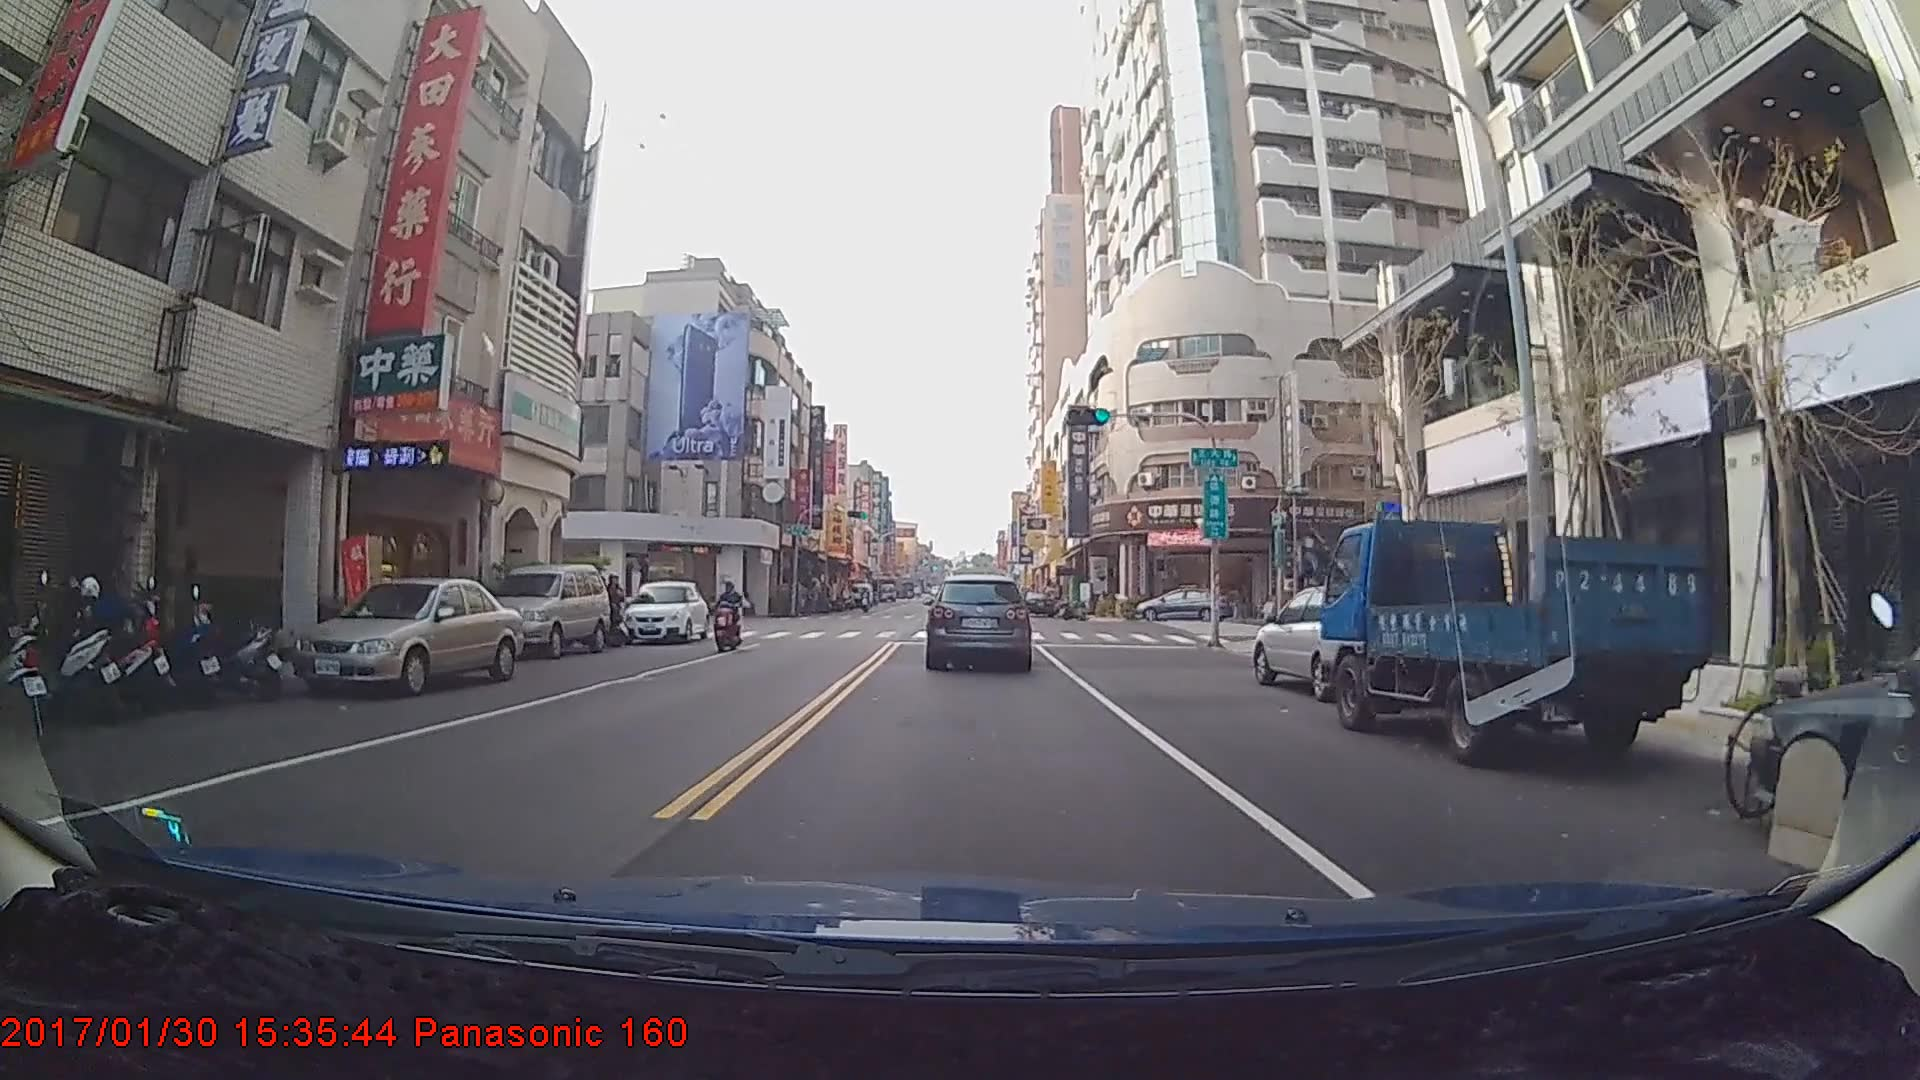rider: (712, 580, 748, 656)
vehicle: (1319, 516, 1710, 765), (283, 575, 521, 698), (1251, 581, 1407, 700), (473, 560, 612, 659), (926, 573, 1030, 671), (622, 579, 711, 644), (1132, 585, 1226, 620), (1021, 589, 1055, 615), (849, 579, 873, 606)
